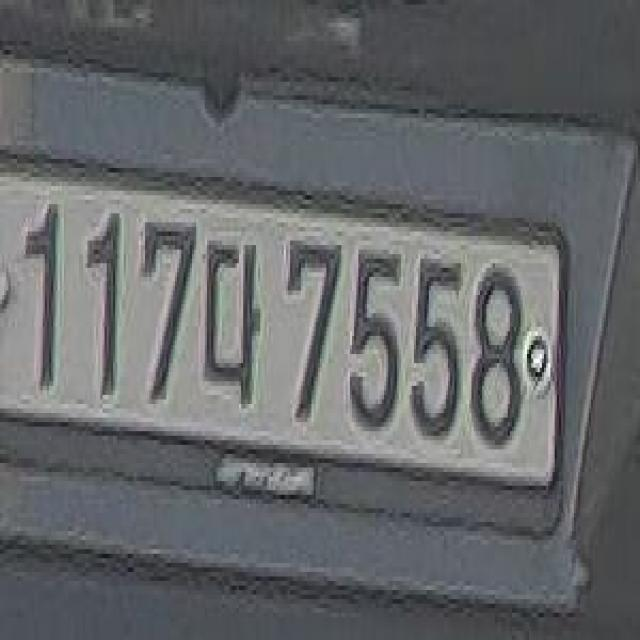illegal_plate: (0, 155, 576, 533)
